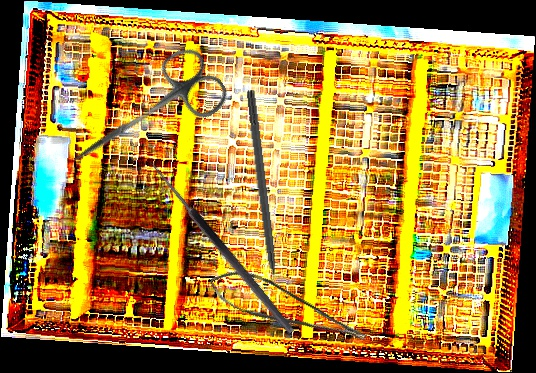Hook Surgical: (137, 157, 297, 343), (243, 89, 282, 303)
Iris Scissors: (54, 40, 234, 194)
Micro Scissor: (203, 255, 370, 369)
